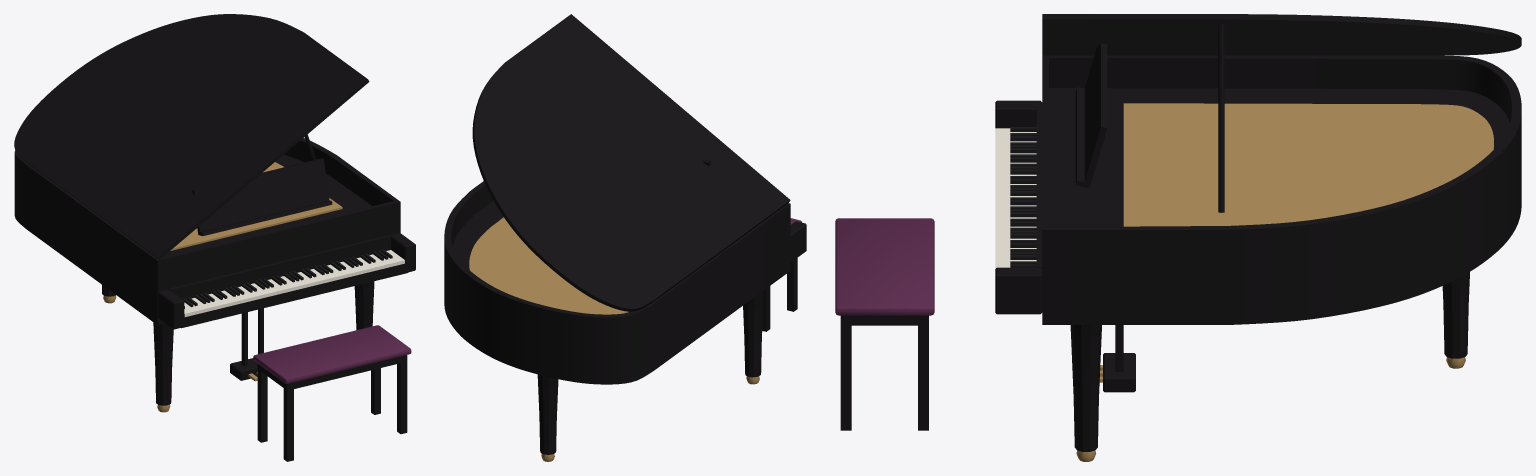
Rendered from grand_piano.glb.
3 views of the same model, side by side, from view 1: azimuth 30°, elevation 25°; view 2: azimuth 150°, elevation 25°; view 3: azimuth 270°, elevation 25° (orthographic). The views are drawn at different scales.
Parts seen in each view (by area): view 1: lid, grand_piano, bench; view 2: lid, grand_piano, bench; view 3: grand_piano, lid, bench, prop_stick.
Part boxes in pixels (x1=…): lid: x1=14, y1=14, x2=369, y2=259; grand_piano: x1=14, y1=138, x2=415, y2=412; bench: x1=253, y1=325, x2=411, y2=461; lid: x1=472, y1=14, x2=790, y2=311; grand_piano: x1=444, y1=158, x2=806, y2=461; bench: x1=762, y1=218, x2=801, y2=331; grand_piano: x1=995, y1=43, x2=1521, y2=461; lid: x1=1042, y1=14, x2=1521, y2=55; bench: x1=835, y1=218, x2=934, y2=430; prop_stick: x1=1218, y1=24, x2=1224, y2=212.
Size of the model in its own units: 1.5 by 1.75 by 2.49.
